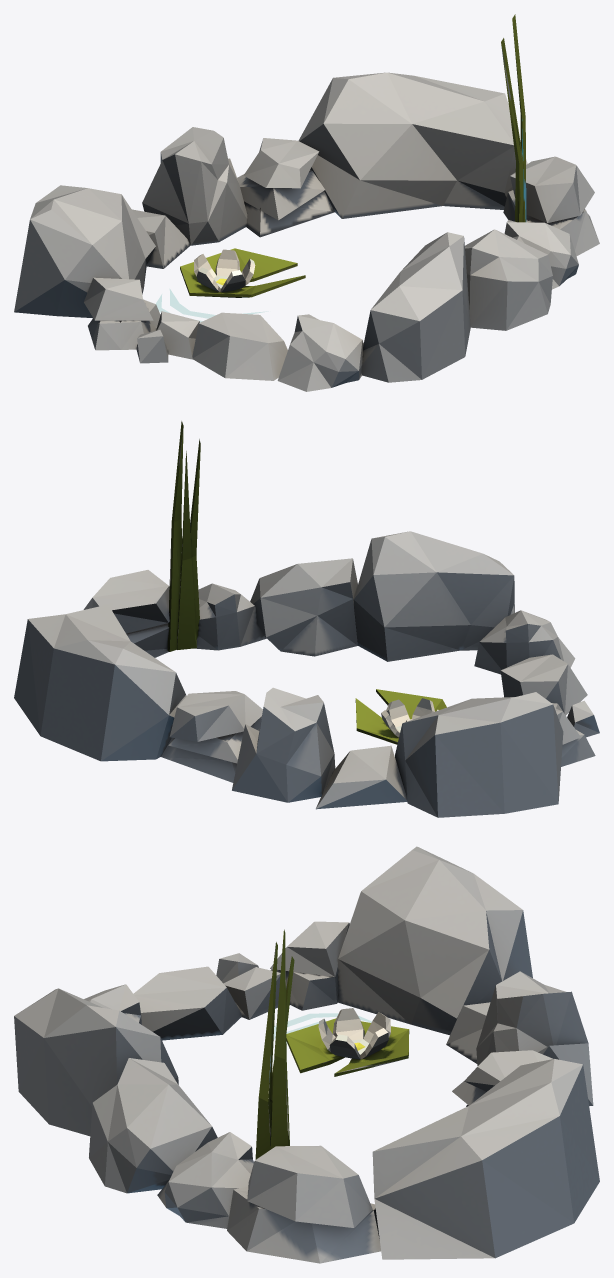
File: canh_ho.glb
The picture shows the model from 3 angles, top to bottom: view 1: azimuth 30°, elevation 25°; view 2: azimuth 150°, elevation 25°; view 3: azimuth 270°, elevation 25°; orthographic projection. The views are drawn at different scales.
Parts seen in each view (by area): view 1: pond; view 2: pond; view 3: pond.
Boxes of the visible parts, x1=… form: pond: x1=14, y1=14, x2=599, y2=391; pond: x1=14, y1=421, x2=599, y2=817; pond: x1=14, y1=846, x2=599, y2=1263.
Size of the model in its own units: 2.19 by 0.9291 by 1.75.
Materials: 1 (1 with a texture image).
